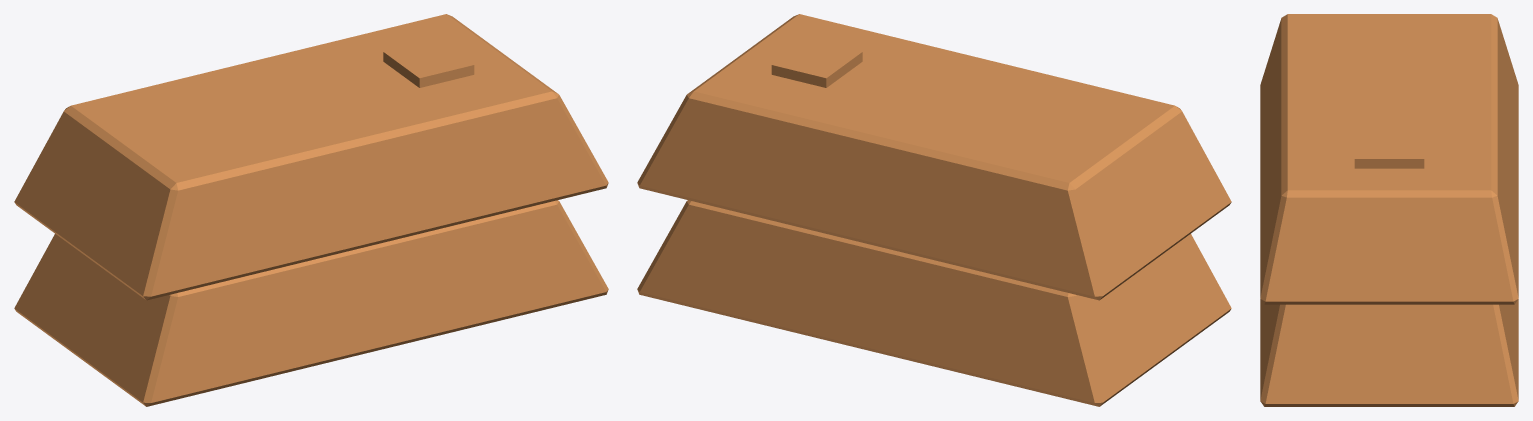
The model's file is copper-ingot.glb.
3 renders of one model, left to right at view 1: azimuth 30°, elevation 25°; view 2: azimuth 150°, elevation 25°; view 3: azimuth 270°, elevation 25°, orthographic. The views are drawn at different scales.
Visible parts, largest first — view 1: copper-ingot / Copper; view 2: copper-ingot / Copper; view 3: copper-ingot / Copper.
Part boxes in pixels (box(x1,y1,x2,y2)): copper-ingot / Copper: box(14, 14, 608, 406); copper-ingot / Copper: box(637, 14, 1231, 406); copper-ingot / Copper: box(1260, 14, 1518, 406).
Bounding box in the file's own units: 0.2975 × 0.132 × 0.1487.
